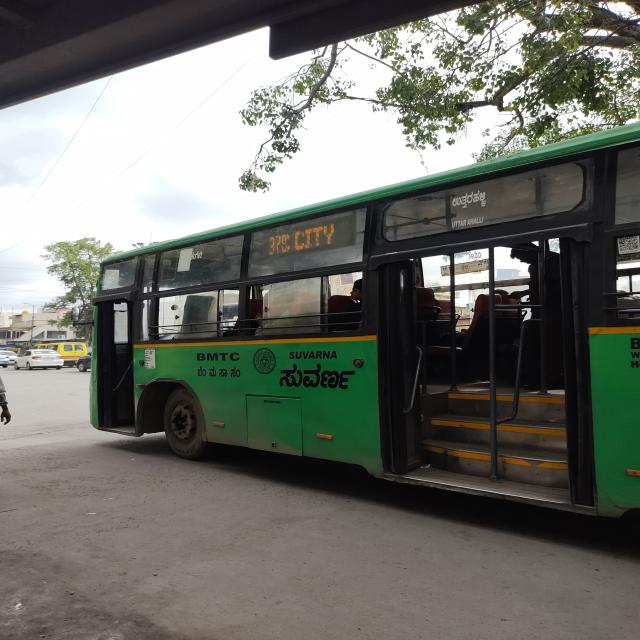bus: (79, 109, 638, 513)
display: (271, 223, 350, 253)
dnumber: (270, 234, 292, 254)
